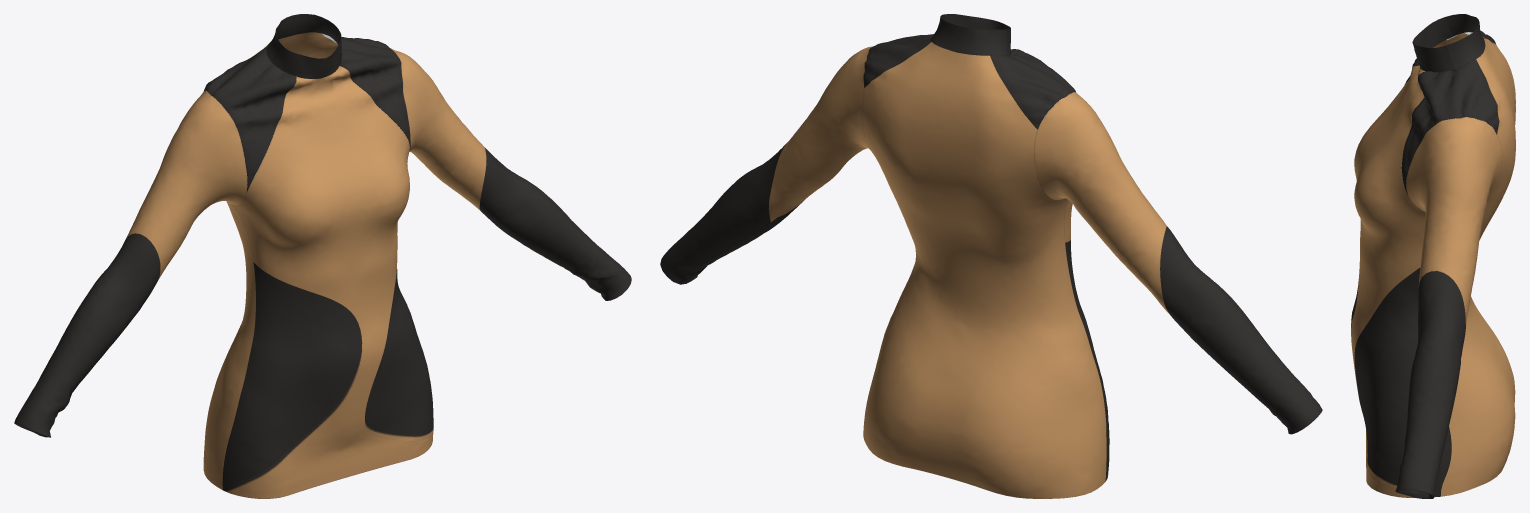
Rendered from women_shirts.glb.
3 renders of one model, left to right at view 1: azimuth 30°, elevation 25°; view 2: azimuth 150°, elevation 25°; view 3: azimuth 270°, elevation 25°, orthographic. The views are drawn at different scales.
Parts seen in each view (by area): view 1: Object_3, Object_6, Object_4; view 2: Object_3, Object_6; view 3: Object_3, Object_6, Object_7.
Part boxes in pixels (left/top/right/bottom): Object_3: left=125, top=44, right=486, bottom=498; Object_6: left=14, top=14, right=631, bottom=490; Object_4: left=278, top=32, right=338, bottom=58; Object_3: left=769, top=42, right=1172, bottom=498; Object_6: left=660, top=14, right=1322, bottom=480; Object_3: left=1351, top=37, right=1515, bottom=497; Object_6: left=1351, top=14, right=1499, bottom=498; Object_7: left=1395, top=14, right=1496, bottom=498.
Size of the model in its own units: 108 by 71.9 by 24.77.
Materials: 3 (3 with a texture image).
